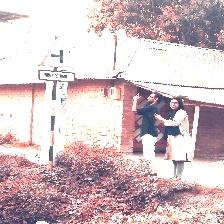Side-road-left: (37, 37, 76, 82)
